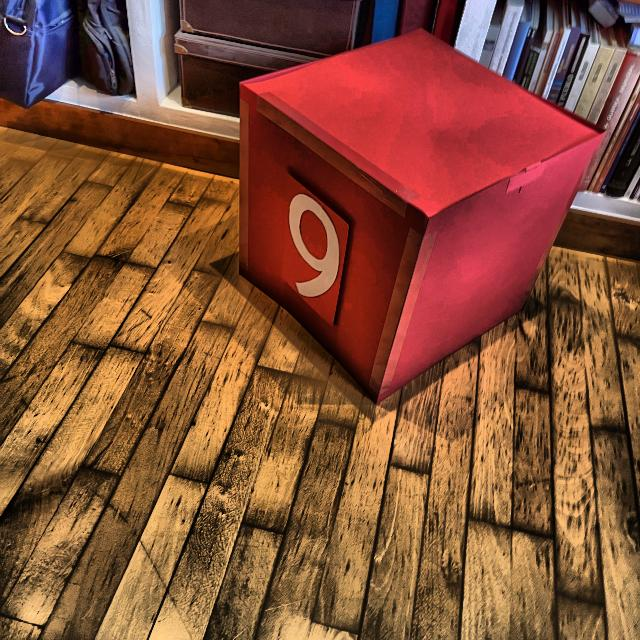nine: (288, 188, 342, 302)
red box: (243, 24, 598, 404)
